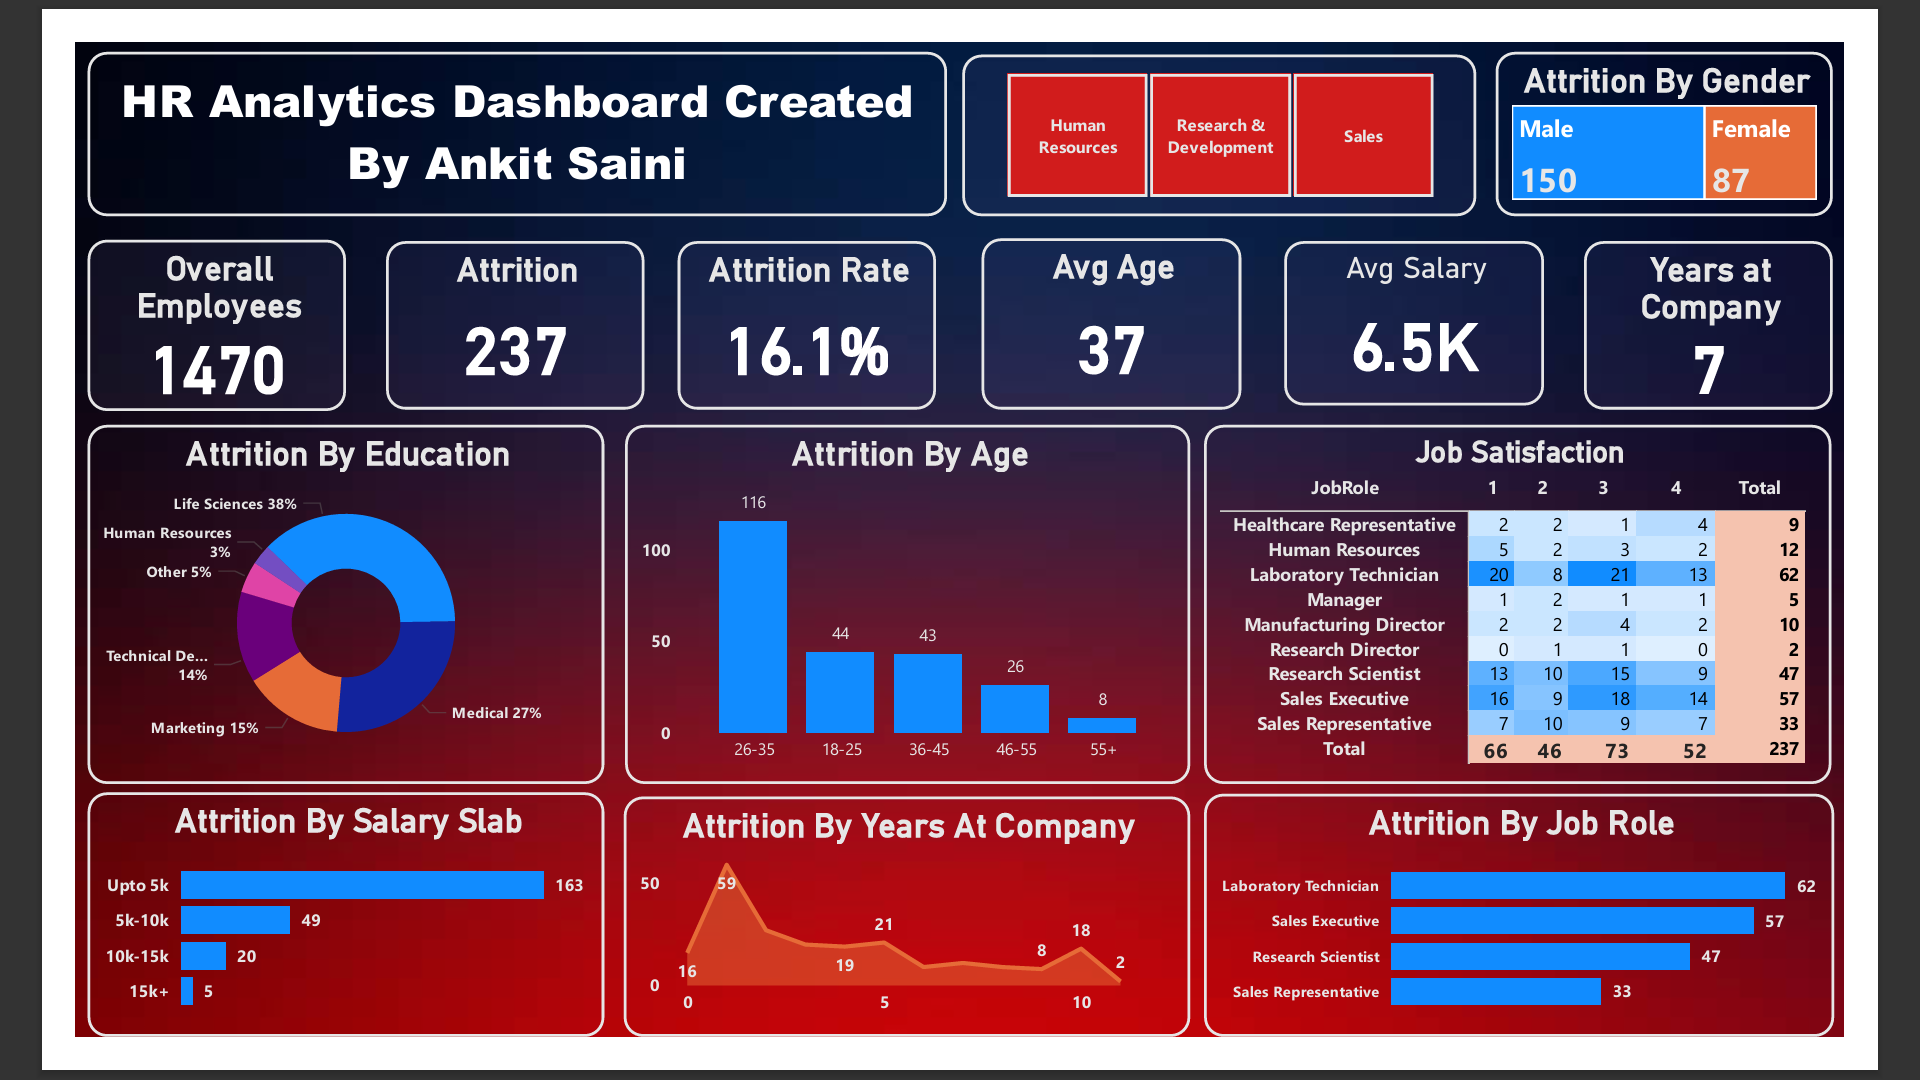

The dashboard page shown, as its layout file describes it:
{"tool":"powerbi","page":{"name":"Page 1","canvas":[1280,720],"ordinal":0},"visuals":[{"type":"card","title":"Overall Employees","fields":{"Values":["CountNonNull(HR_Analytics.EmpID)"]},"box":[8.6,142.9,187.1,124.3],"z":0},{"type":"card","title":"Avg Age","fields":{"Values":["Avg(HR_Analytics.Age)"]},"box":[656.4,142.3,187.7,123.9],"z":1000},{"type":"card","title":"Attrition Rate","fields":{"Values":["HR_Analytics.Attrition_Rate"]},"box":[435.6,143.6,187.7,122.7],"z":2000},{"type":"card","title":"Attrition","fields":{"Values":["Sum(HR_Analytics.Attrition_Count)"]},"box":[224.5,143.6,187.7,122.7],"z":3000},{"type":"card","title":"Years at Company","fields":{"Values":["Avg(HR_Analytics.YearsAtCompany)"]},"box":[1092,143.6,180.4,122.7],"z":4000},{"type":"card","title":"Avg Salary","fields":{"Values":["Avg(HR_Analytics.MonthlyIncome)"]},"box":[874.9,143.6,187.7,119],"z":5000},{"type":"donutChart","title":"Attrition By Education","fields":{"Category":["HR_Analytics.EducationField"],"Y":["Sum(HR_Analytics.Attrition_Count)"]},"box":[8.6,277.3,374.2,260.1],"z":6000},{"type":"columnChart","title":"Attrition By Age","fields":{"Category":["HR_Analytics.AgeGroup"],"Y":["Sum(HR_Analytics.Attrition_Count)"]},"box":[397.5,277.3,409.8,260.1],"z":7000},{"type":"pivotTable","title":"Job Satisfaction","fields":{"Rows":["HR_Analytics.JobRole"],"Columns":["HR_Analytics.JobSatisfaction"],"Values":["Sum(HR_Analytics.Attrition_Count)"]},"box":[817.1,277.1,454.3,260],"z":8000},{"type":"barChart","title":"Attrition By Salary Slab","fields":{"Category":["HR_Analytics.SalarySlab"],"Y":["Sum(HR_Analytics.Attrition_Count)"]},"box":[8.6,542.9,374.3,177.1],"z":8001},{"type":"barChart","title":"Attrition By Job Role","fields":{"Y":["Sum(HR_Analytics.Attrition_Count)"],"Category":["HR_Analytics.JobRole"]},"box":[817.1,544.3,455.7,175.7],"z":8002},{"type":"areaChart","title":"Attrition By Years At Company","fields":{"Category":["HR_Analytics.YearsAtCompany"],"Y":["Sum(HR_Analytics.Attrition_Count)"]},"box":[397.1,545.7,410,174.3],"z":8003},{"type":"treemap","title":"Attrition By Gender","fields":{"Group":["HR_Analytics.Gender"],"Values":["Sum(HR_Analytics.Attrition_Count)"]},"box":[1028.2,7.4,244.2,119],"z":8004},{"type":"slicer","fields":{"Values":["HR_Analytics.Department"]},"box":[641.7,8.6,371.8,117.8],"z":8005},{"type":"textbox","box":[8.6,7.4,622.1,119],"z":8006}]}

Visuals, with their boxes in screenshot pixels (x1, y1, x2, y2), scaled from the page's 1280x720 canvas onto the 1920x1080 screenshot:
"Overall Employees" card: box=[13, 214, 294, 401]
"Avg Age" card: box=[985, 213, 1266, 399]
"Attrition Rate" card: box=[653, 215, 935, 399]
"Attrition" card: box=[337, 215, 618, 399]
"Years at Company" card: box=[1638, 215, 1909, 399]
"Avg Salary" card: box=[1312, 215, 1594, 394]
"Attrition By Education" donutChart: box=[13, 416, 574, 806]
"Attrition By Age" columnChart: box=[596, 416, 1211, 806]
"Job Satisfaction" pivotTable: box=[1226, 416, 1907, 806]
"Attrition By Salary Slab" barChart: box=[13, 814, 574, 1079]
"Attrition By Job Role" barChart: box=[1226, 816, 1909, 1079]
"Attrition By Years At Company" areaChart: box=[596, 819, 1211, 1079]
"Attrition By Gender" treemap: box=[1542, 11, 1909, 190]
slicer - HR_Analytics.Department: box=[963, 13, 1520, 190]
textbox: box=[13, 11, 946, 190]
